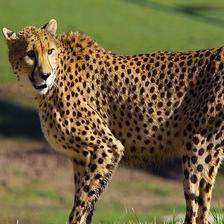Cheetah: (2, 19, 224, 224)
